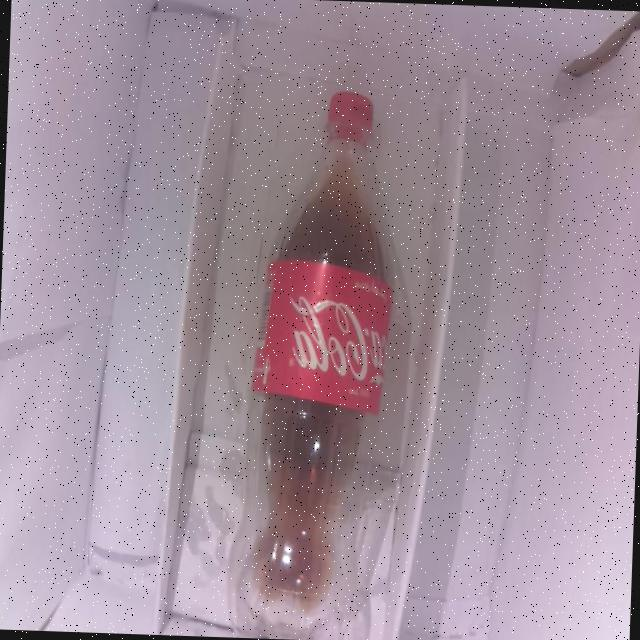bottle: (208, 66, 434, 640)
cap: (312, 86, 378, 150)
label: (212, 272, 406, 398)
